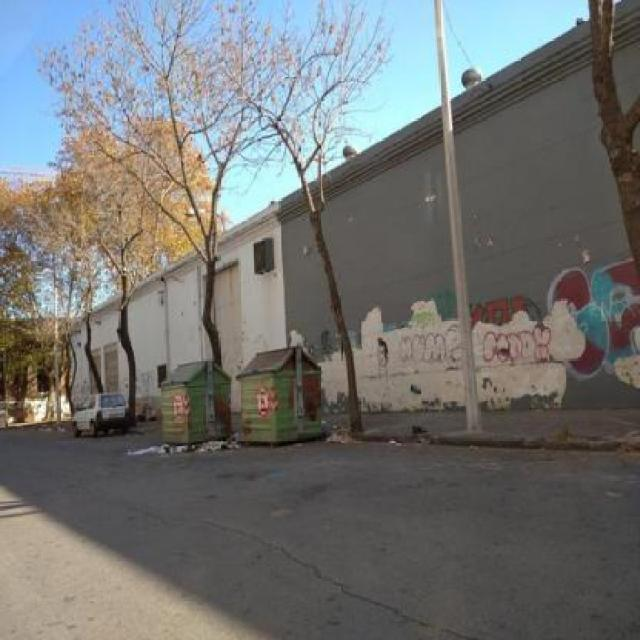garbage: (129, 439, 248, 466), (317, 417, 352, 446)
